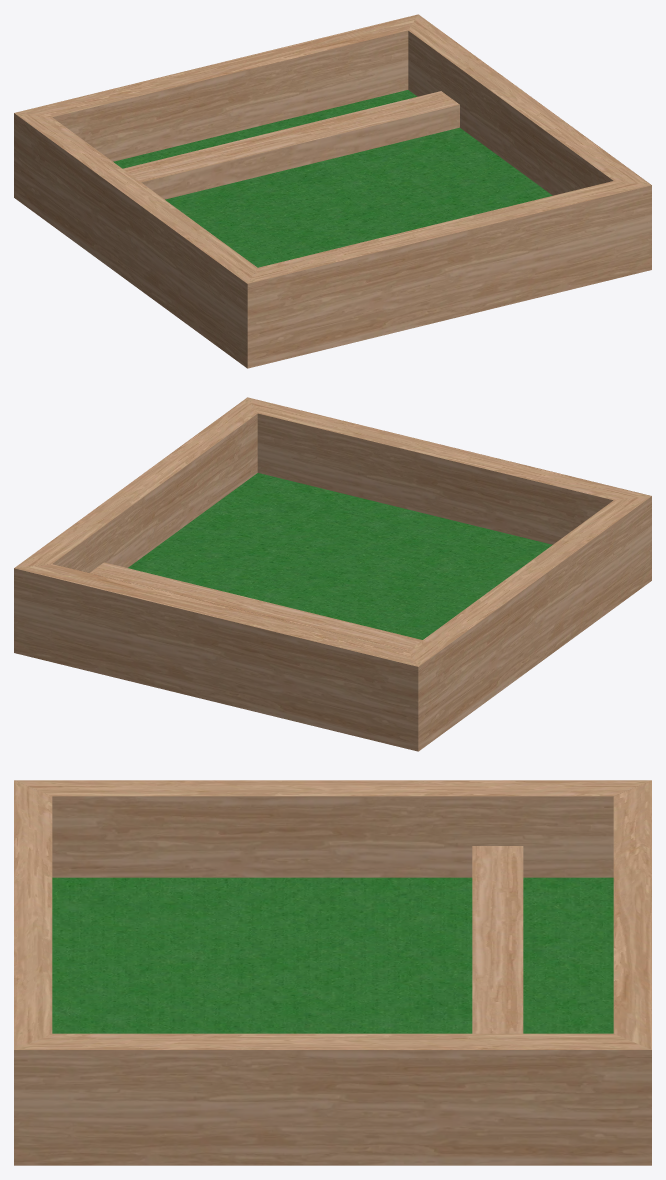
3 renders of one model, top to bottom at view 1: azimuth 30°, elevation 25°; view 2: azimuth 150°, elevation 25°; view 3: azimuth 270°, elevation 25°, orthographic. The views are drawn at different scales.
Parts seen in each view (by area): view 1: Cube; view 2: Cube; view 3: Cube.
Part boxes in pixels (x1,y1,x2,y2): Cube: (14, 14, 651, 368); Cube: (14, 397, 651, 751); Cube: (14, 780, 651, 1165).
Size of the model in its own units: 0.5 by 0.1001 by 0.5.
2 materials, 2 textured.
